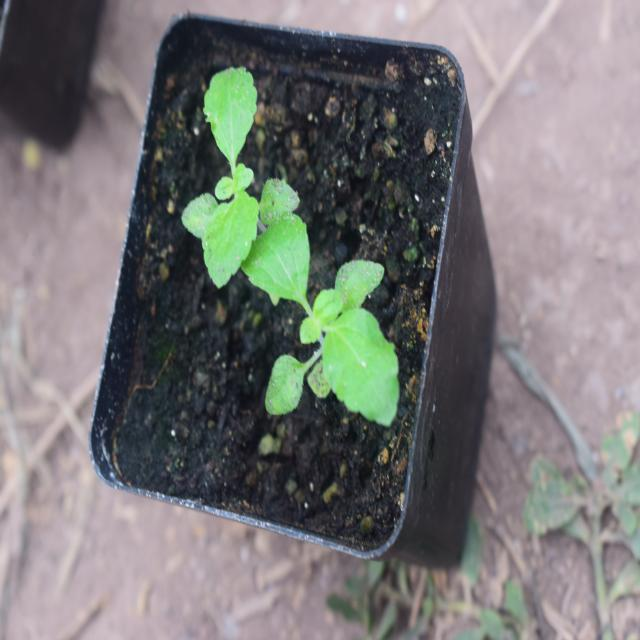billygoat_weed: (256, 210, 397, 412), (187, 44, 267, 312)
